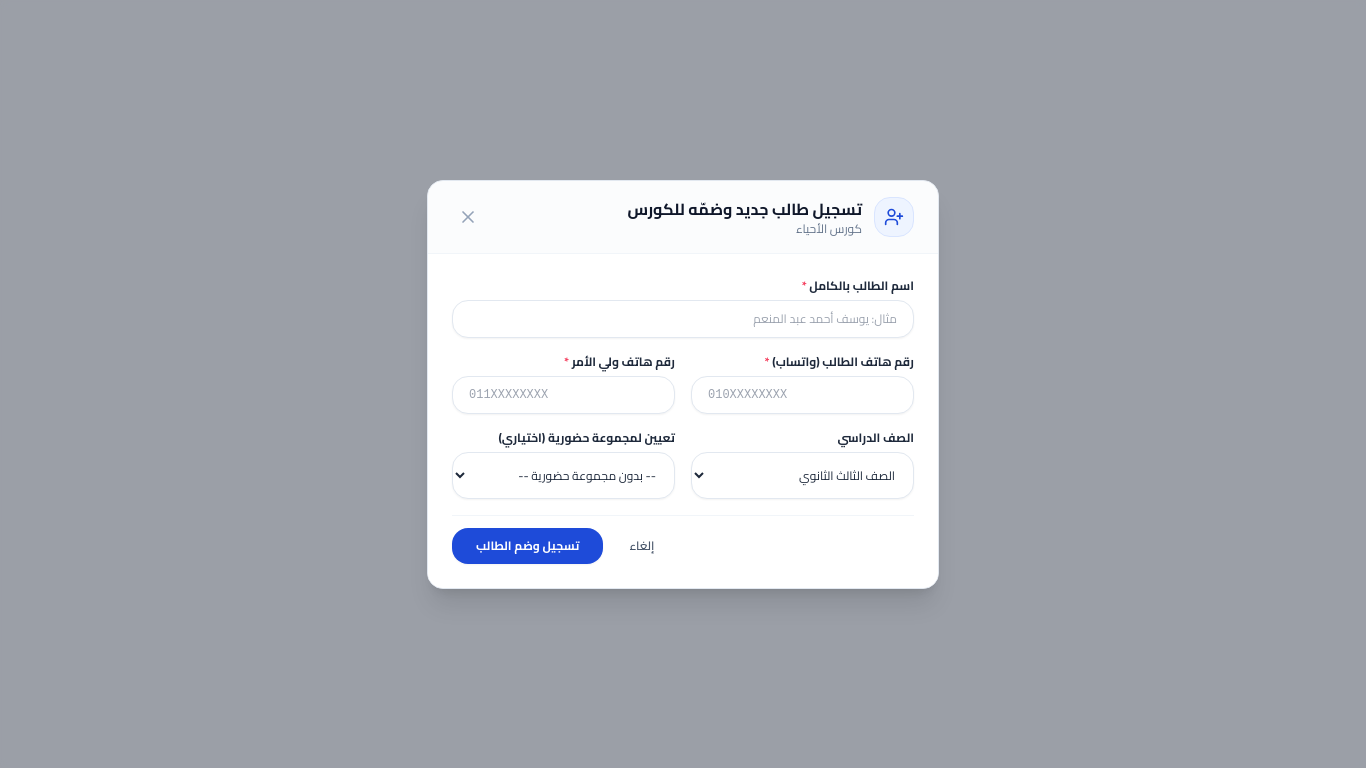
Course DRM, Direct Upload & Hybrid Enrollment Suite › CreateStudentEnrollModal Component › submits form and creates/enrolls student with generated credentials
Expected: the heading "تسجيل طالب جديد وضمّه للكورس" is shown, [627, 196, 862, 220]
Type "يوسف أحمد عبد المنعم" into the field with placeholder "مثال: يوسف أحمد عبد المنعم" at (683, 318), box [452, 300, 914, 338]
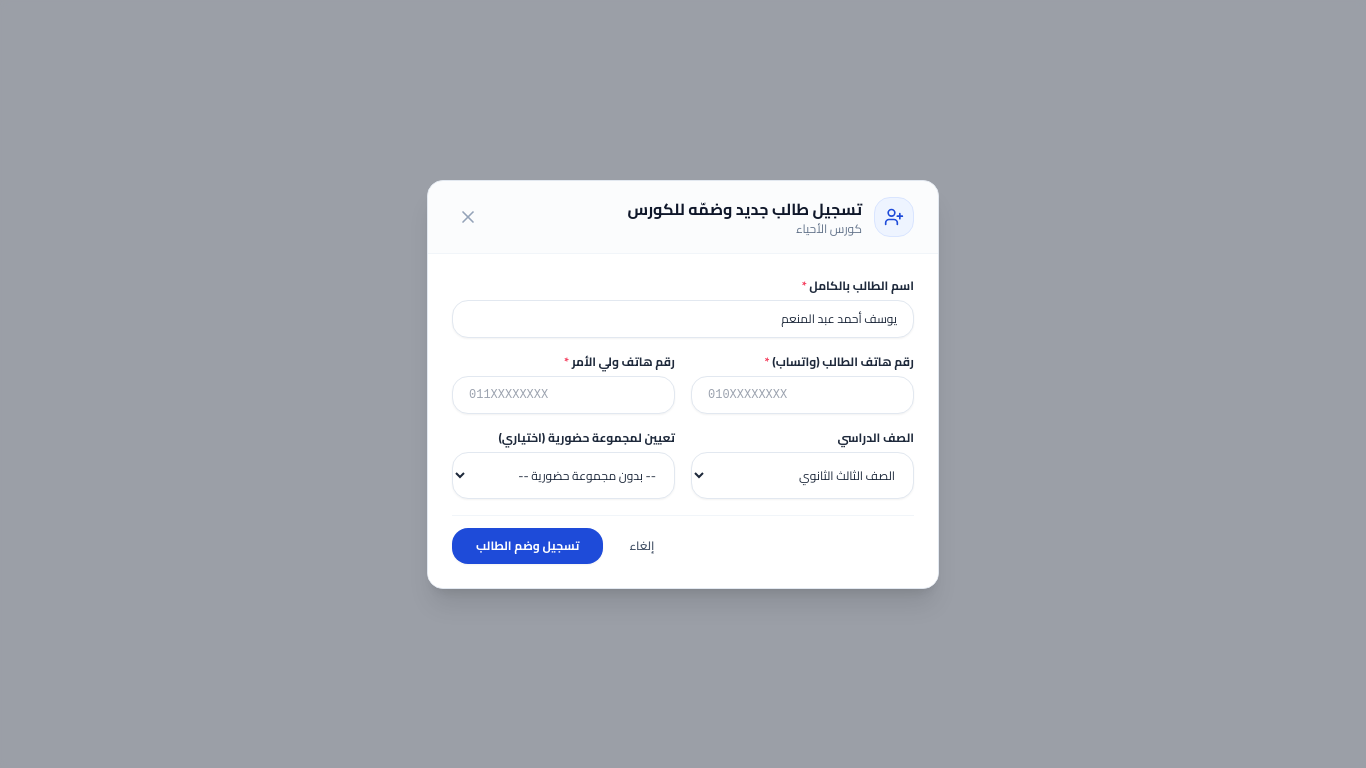
Type "01099887766" into the field with placeholder "010XXXXXXXX" at (802, 394), box [691, 376, 914, 414]
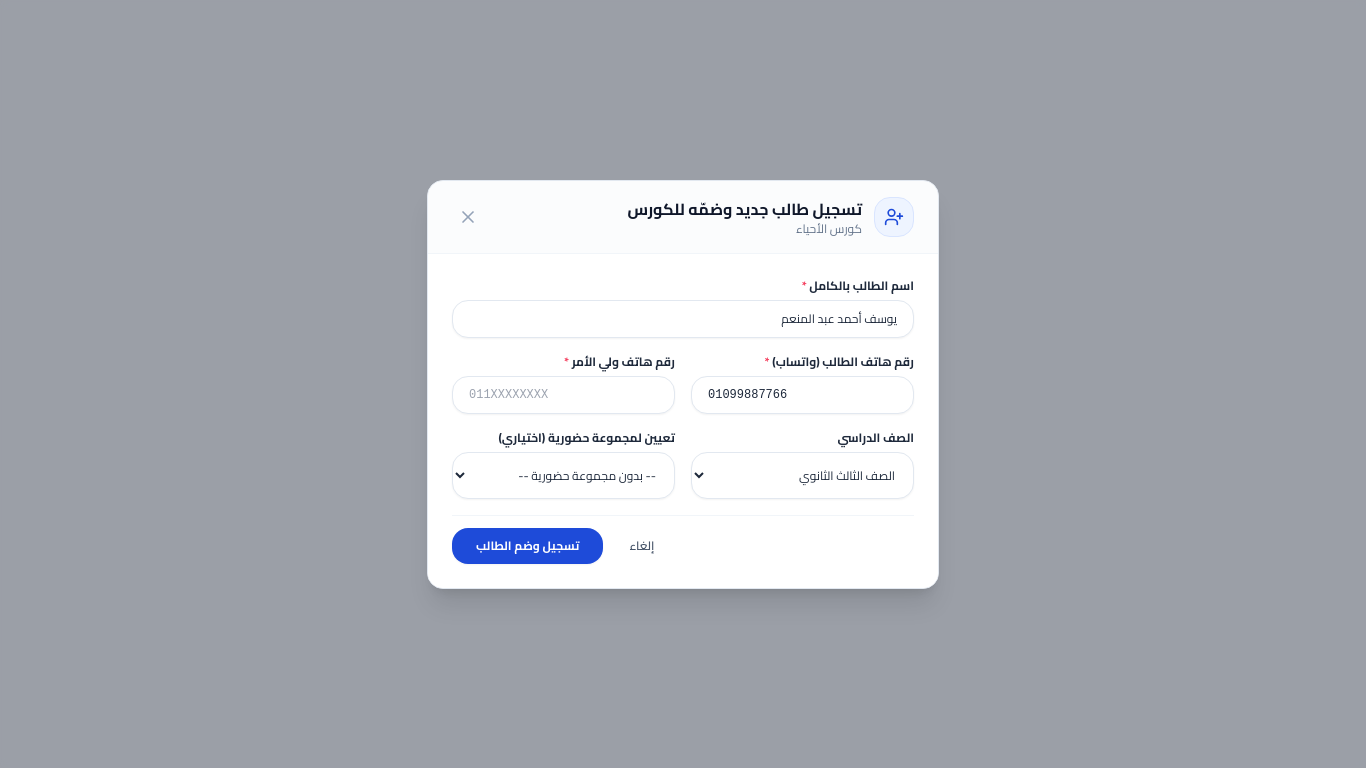
Type "01199887766" into the field with placeholder "011XXXXXXXX" at (564, 394), box [452, 376, 675, 414]
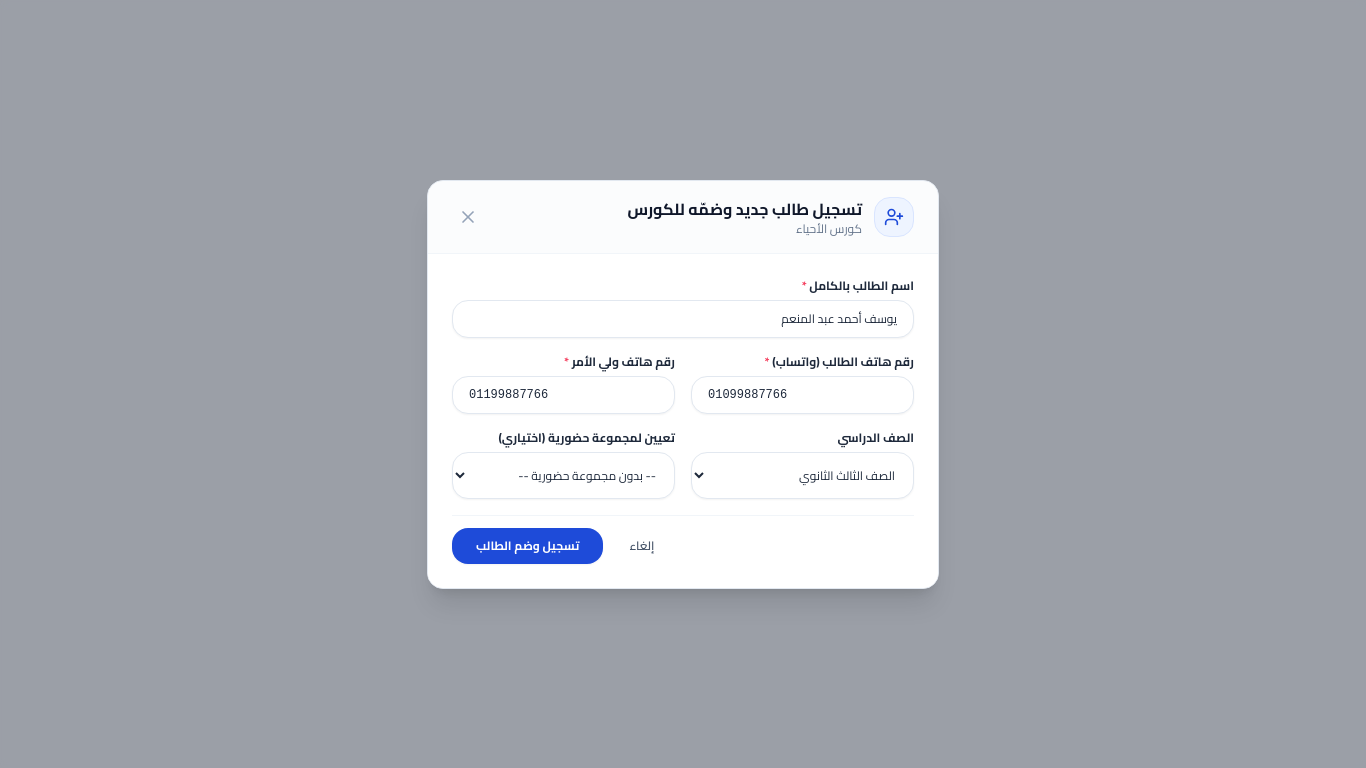
Click the button "تسجيل وضم الطالب" at (528, 546), box [452, 528, 604, 564]
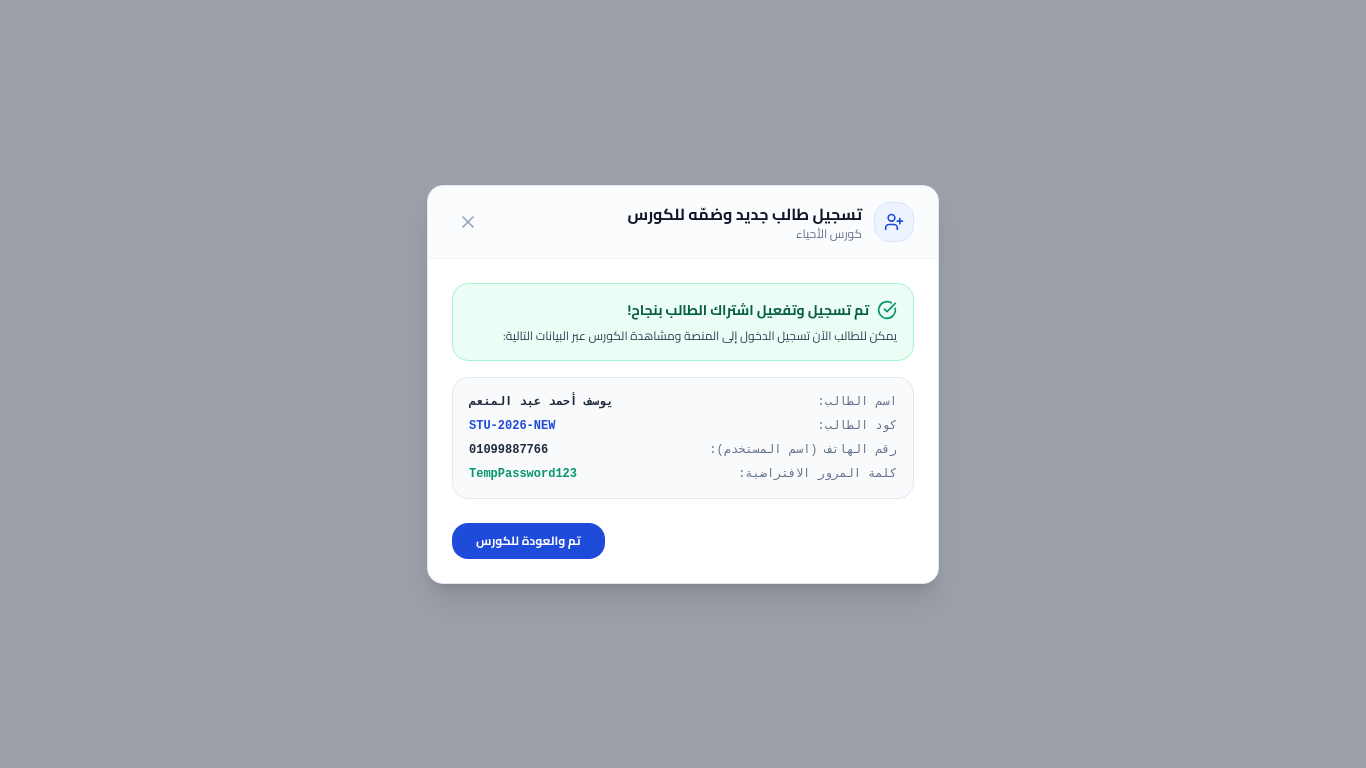
Expected: the text "تم تسجيل وتفعيل اشتراك الطالب بنجاح!" is shown, [628, 300, 869, 320]
Expected: the text "STU-2026-NEW" is shown, [469, 418, 555, 434]
Expected: the text "TempPassword123" is shown, [469, 466, 577, 482]
